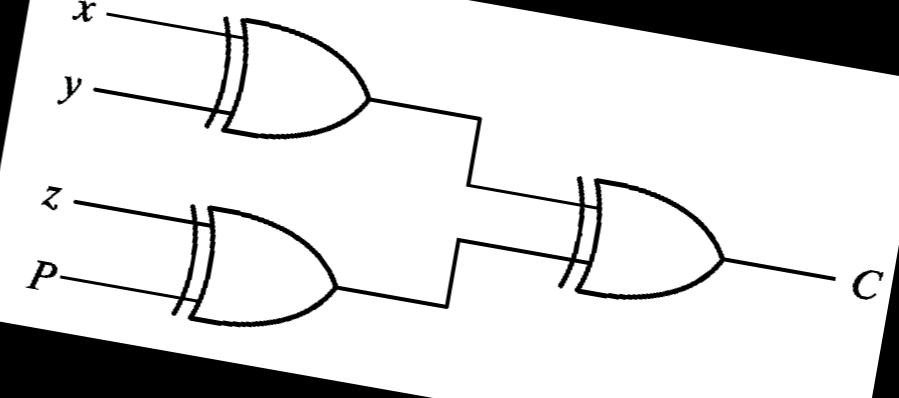xor: (162, 0, 414, 179), (525, 152, 756, 341), (134, 180, 370, 364)
